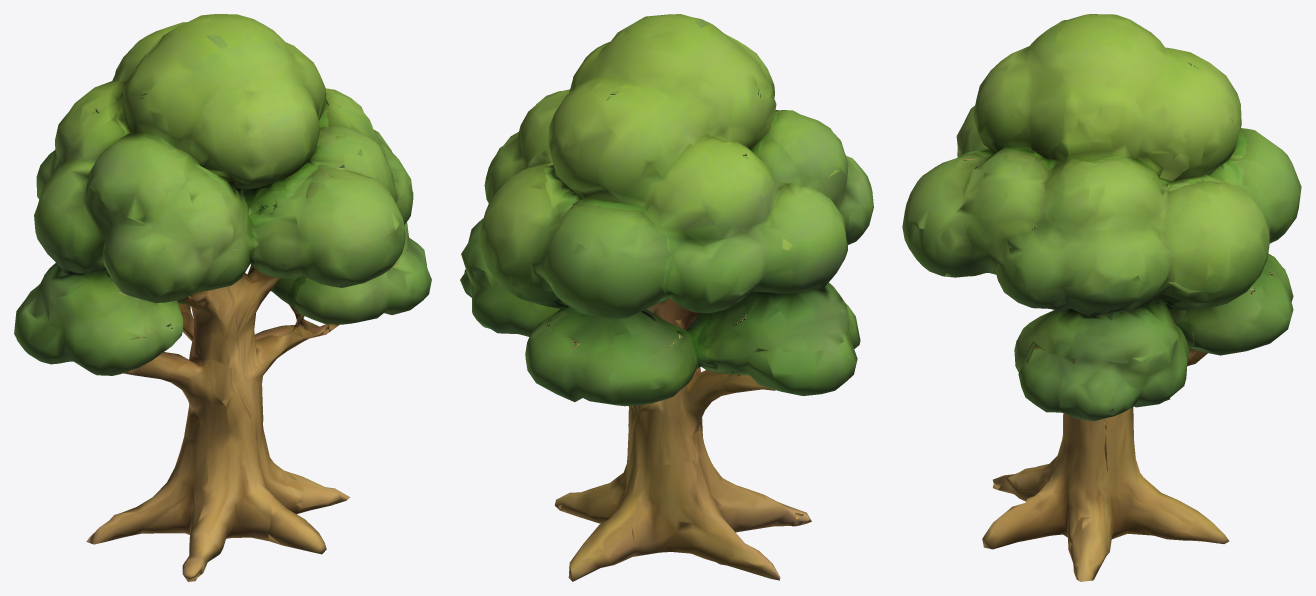
The model's file is tree-forest-meshy-lod5.glb.
3 renders of one model, left to right at view 1: azimuth 30°, elevation 25°; view 2: azimuth 150°, elevation 25°; view 3: azimuth 270°, elevation 25°, orthographic. The views are drawn at different scales.
Visible parts, largest first — view 1: Mesh_0; view 2: Mesh_0; view 3: Mesh_0.
Part boxes in pixels (x1=…): Mesh_0: x1=14, y1=14, x2=431, y2=581; Mesh_0: x1=460, y1=14, x2=873, y2=581; Mesh_0: x1=902, y1=14, x2=1301, y2=581.
Size of the model in its own units: 9.37 by 11.68 by 8.37.
1 material, 1 textured.
